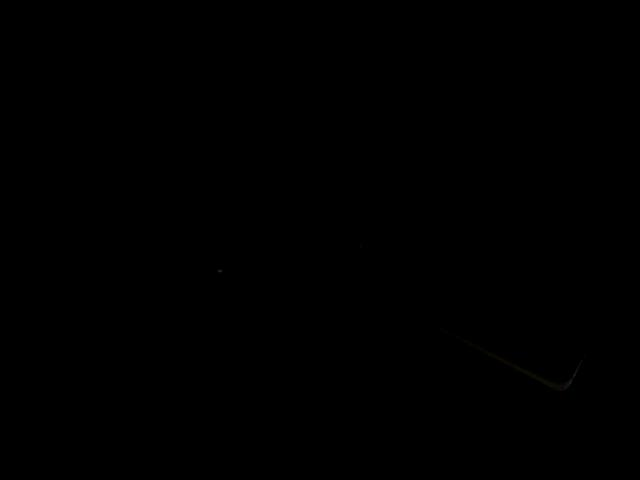iha: (110, 116, 640, 435)
